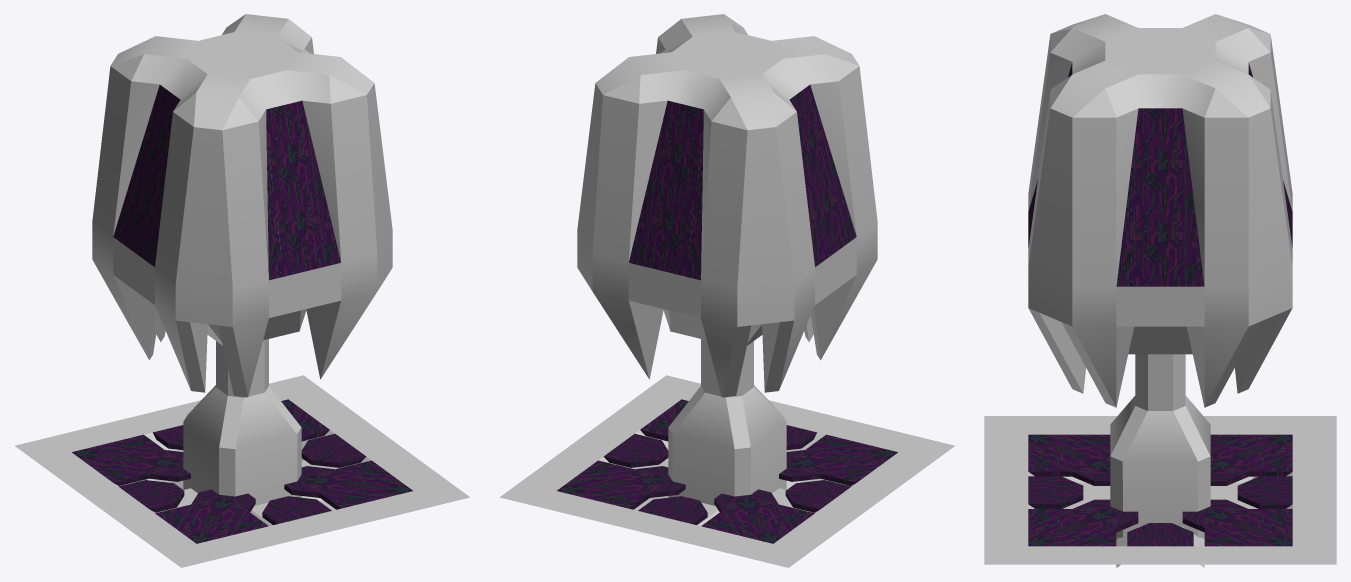
File: cbtowe04.FBX
The picture shows the model from 3 angles, left to right: view 1: azimuth 30°, elevation 25°; view 2: azimuth 150°, elevation 25°; view 3: azimuth 270°, elevation 25°; orthographic projection. The views are drawn at different scales.
Visible parts, largest first — view 1: tower2, terrain, glass1__2, glass2__2, cbtowe04; view 2: tower2, terrain, glass1__2, glass2__2, cbtowe04; view 3: tower2, terrain, glass1__2, glass2__2, cbtowe04.
Boxes of the visible parts, bbox=[...] form: tower2: bbox=[92, 14, 392, 397]; terrain: bbox=[15, 375, 469, 567]; glass1__2: bbox=[72, 399, 412, 543]; glass2__2: bbox=[113, 85, 340, 280]; cbtowe04: bbox=[158, 385, 338, 525]; tower2: bbox=[577, 14, 877, 397]; terrain: bbox=[500, 375, 954, 567]; glass1__2: bbox=[557, 399, 897, 543]; glass2__2: bbox=[629, 85, 856, 280]; cbtowe04: bbox=[631, 385, 811, 525]; tower2: bbox=[1028, 14, 1292, 410]; terrain: bbox=[984, 416, 1336, 564]; glass1__2: bbox=[1028, 434, 1292, 546]; glass2__2: bbox=[1028, 63, 1292, 286]; cbtowe04: bbox=[1063, 396, 1257, 567].
Bounding box in the file's own units: 64 × 94 × 64.
